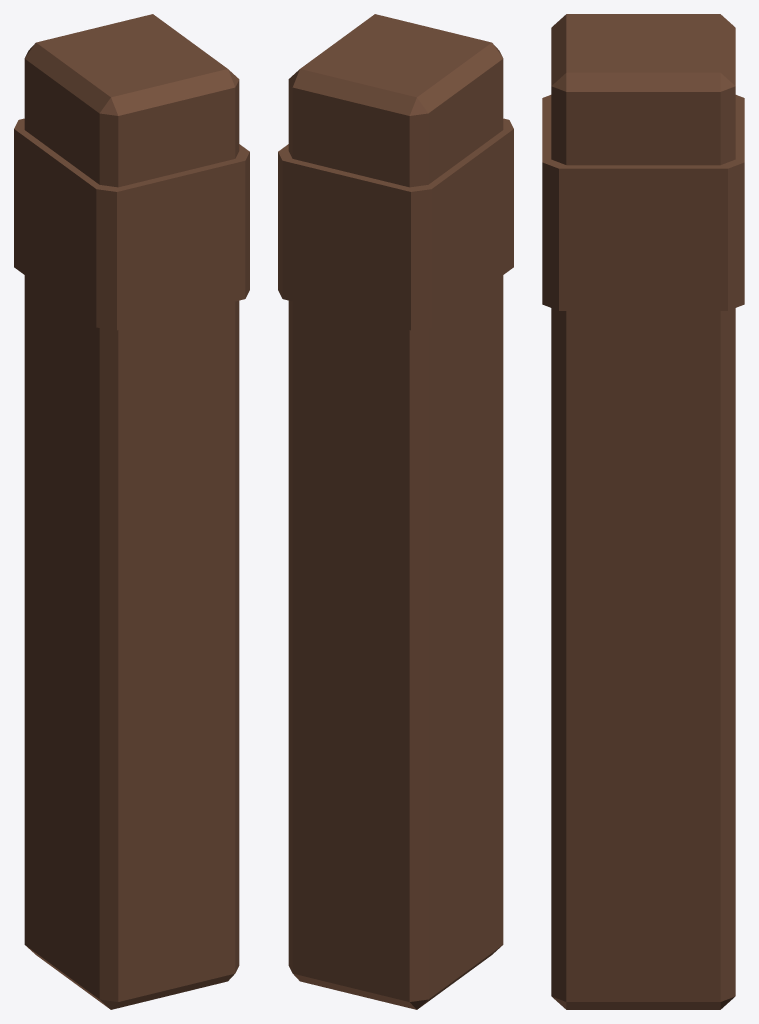
The model's file is Pilar vertical.fbx.
3 renders of one model, left to right at view 1: azimuth 30°, elevation 25°; view 2: azimuth 150°, elevation 25°; view 3: azimuth 270°, elevation 25°, orthographic. The views are drawn at different scales.
Parts seen in each view (by area): view 1: polySurface491; view 2: polySurface491; view 3: polySurface491.
Boxes of the visible parts, x1,y1,x2,y2 form: polySurface491: (14,14,249,1009); polySurface491: (278,14,513,1009); polySurface491: (542,14,744,1009).
Size of the model in its own units: 37.42 by 212 by 41.55.
